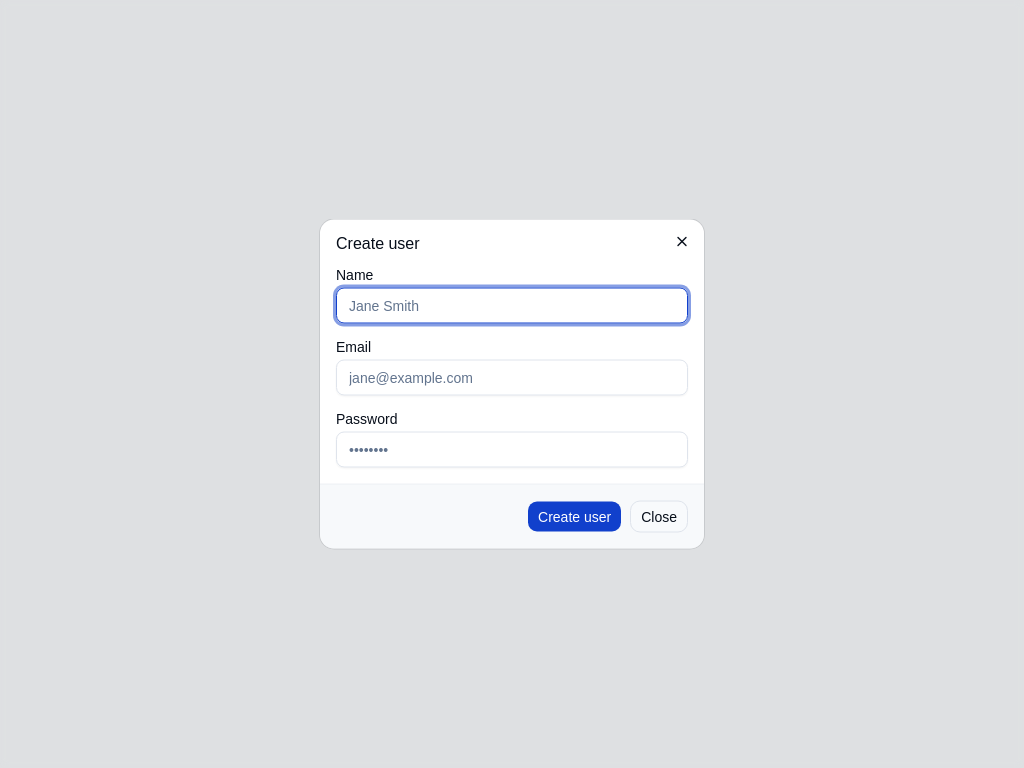
Test case: UserDialog — create mode — validation › shows error when name is too short
In the field labelled "Name": {"x": 512, "y": 306} x1=336 y1=288 x2=688 y2=324, type "ab"
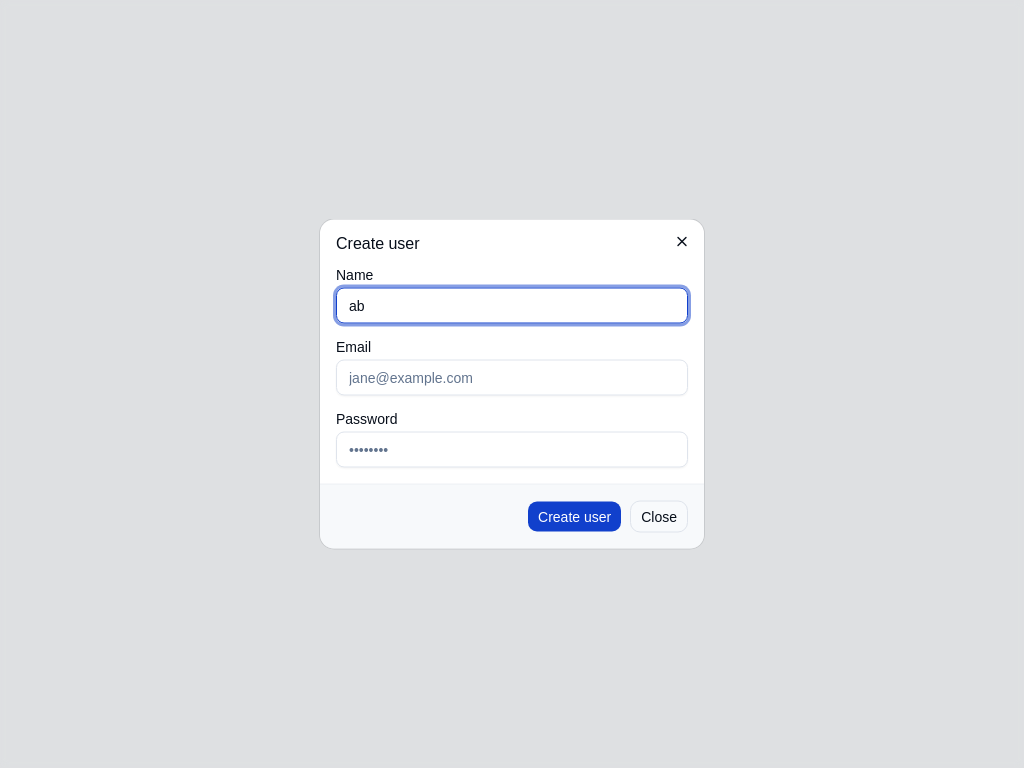
Click the button "Create user": {"x": 575, "y": 516} x1=527 y1=500 x2=622 y2=532
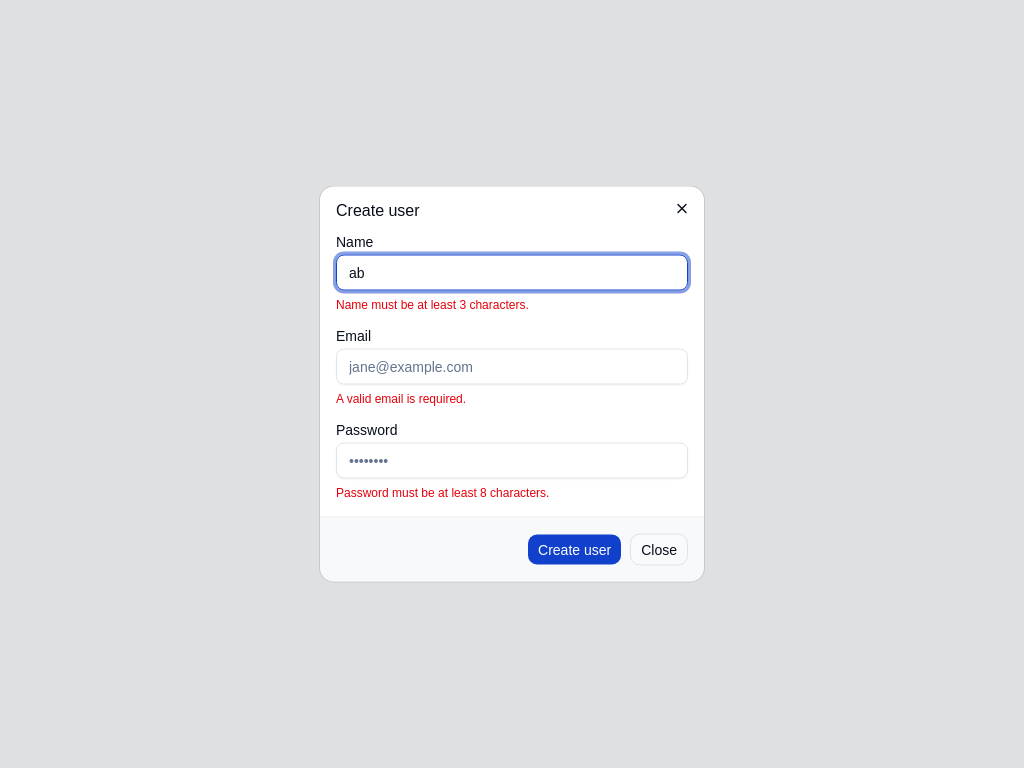
Expected: the text "Name must be at least 3 characters." is shown, x1=336 y1=298 x2=529 y2=312
